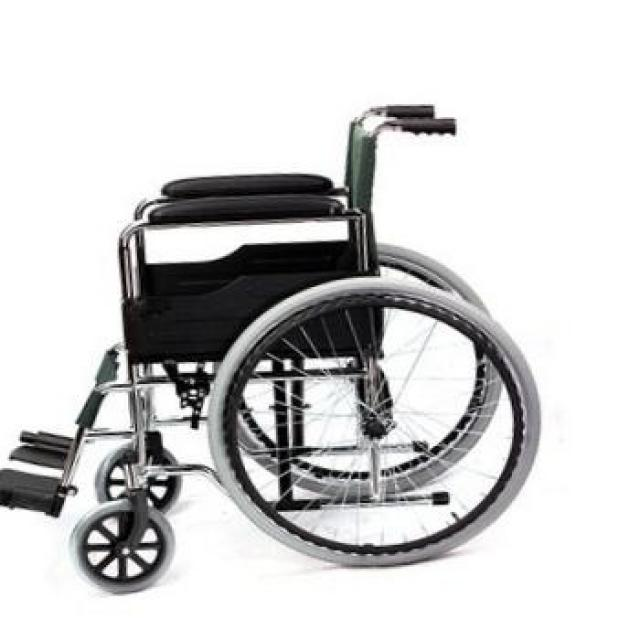wheelchair: (1, 89, 548, 602)
